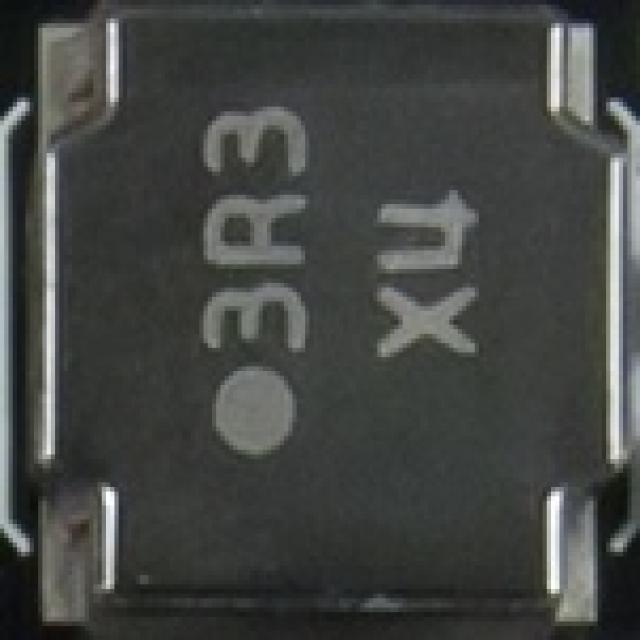inductor F1: (25, 5, 640, 635)
